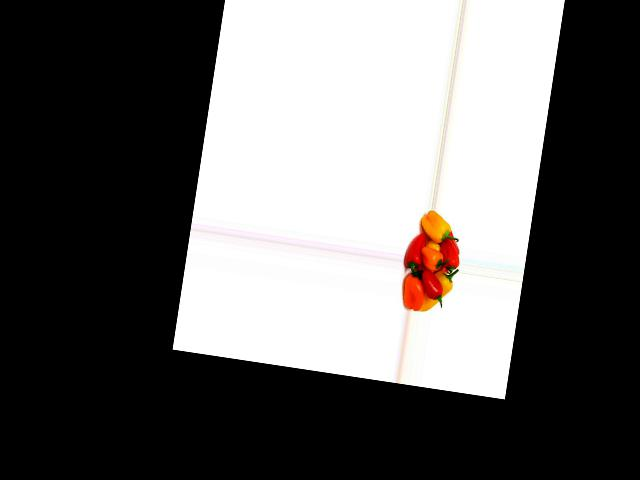bell_pepper: (420, 268, 457, 315)
